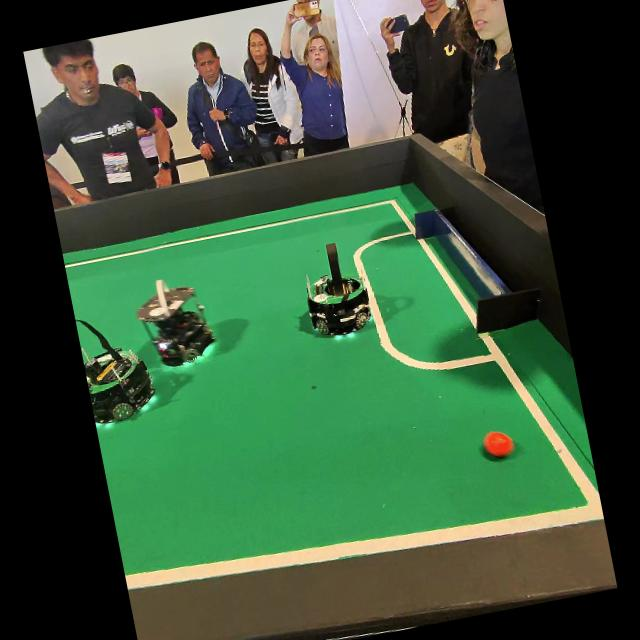ball: (483, 432, 513, 457)
goal: (414, 210, 540, 332)
robot: (75, 320, 154, 423), (136, 280, 215, 367), (306, 244, 370, 336)
